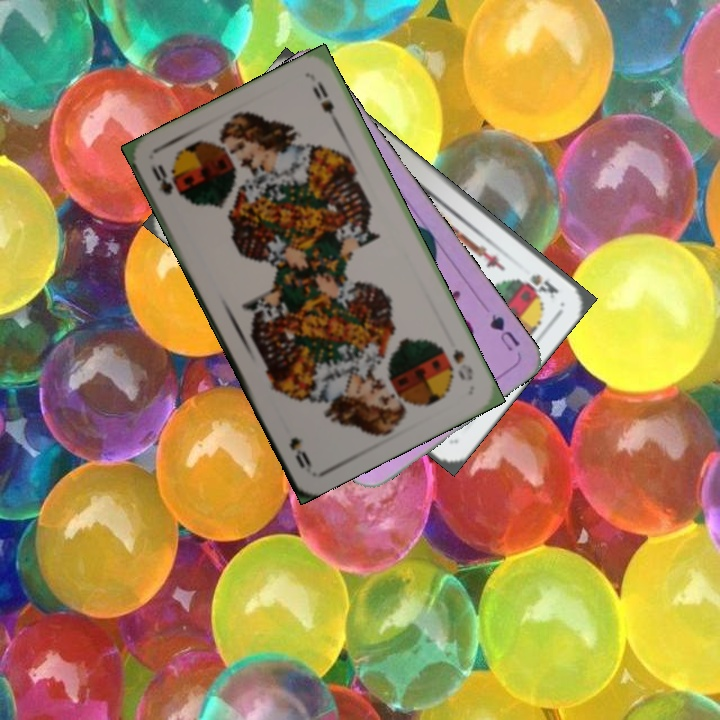GU: (485, 309, 523, 354)
SK: (520, 270, 561, 301)
SO: (146, 160, 185, 202), (448, 345, 476, 384)
